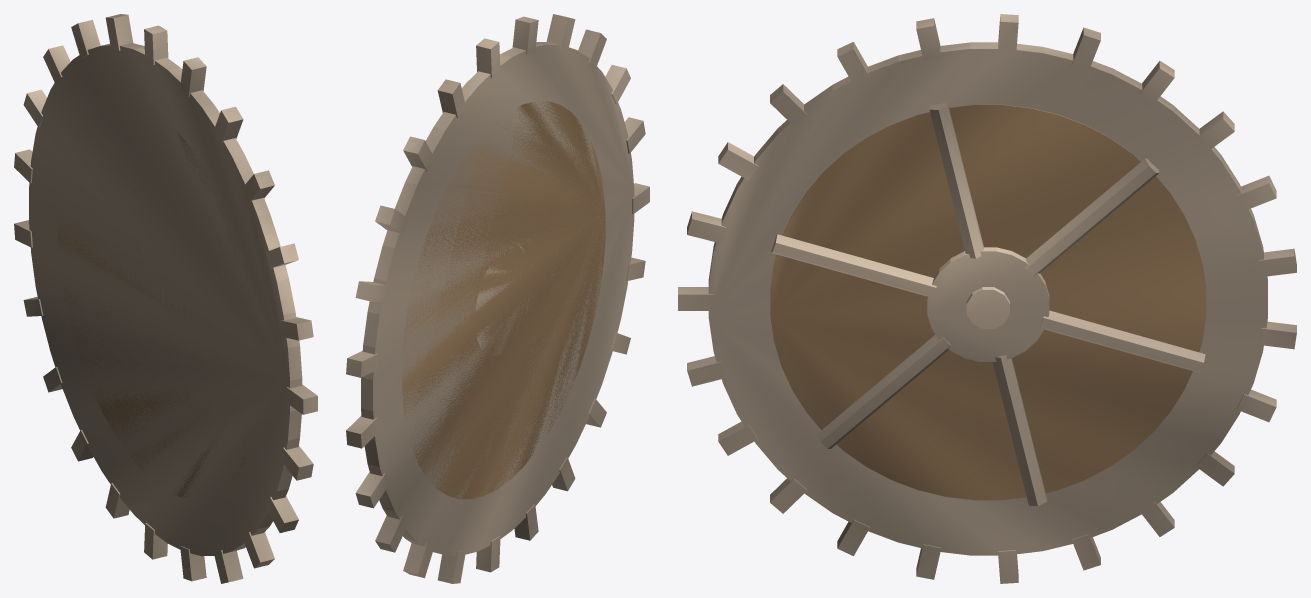
Rendered from SM_TowerGear_G2.fbx.
3 renders of one model, left to right at view 1: azimuth 30°, elevation 25°; view 2: azimuth 150°, elevation 25°; view 3: azimuth 270°, elevation 25°, orthographic. The views are drawn at different scales.
Parts seen in each view (by area): view 1: SM_TowerGear_G2; view 2: SM_TowerGear_G2; view 3: SM_TowerGear_G2.
Boxes of the visible parts, box(x1,y1,x2,y2) form: SM_TowerGear_G2: box(14, 14, 317, 583); SM_TowerGear_G2: box(346, 14, 649, 583); SM_TowerGear_G2: box(678, 14, 1296, 583).
Size of the model in its own units: 31.49 by 576 by 574.
